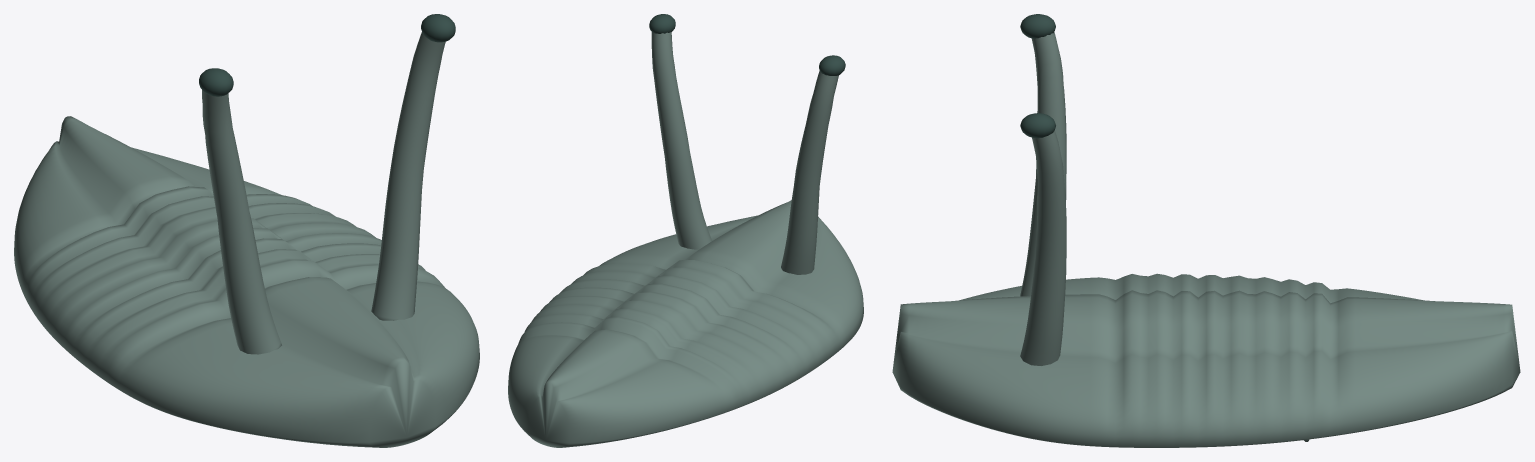
File: asaphus.glb
3 renders of one model, left to right at view 1: azimuth 30°, elevation 25°; view 2: azimuth 150°, elevation 25°; view 3: azimuth 270°, elevation 25°, orthographic. The views are drawn at different scales.
Parts seen in each view (by area): view 1: continuous-cephalon-thorax-pygidium, head-rooted-tapered-eye-towers, compact-terminal-eye-surfaces; view 2: continuous-cephalon-thorax-pygidium, head-rooted-tapered-eye-towers, compact-terminal-eye-surfaces; view 3: continuous-cephalon-thorax-pygidium, head-rooted-tapered-eye-towers, compact-terminal-eye-surfaces.
Part boxes in pixels (left/top/right/bottom): continuous-cephalon-thorax-pygidium: left=14, top=116, right=479, bottom=447; head-rooted-tapered-eye-towers: left=202, top=32, right=445, bottom=354; compact-terminal-eye-surfaces: left=199, top=14, right=455, bottom=96; continuous-cephalon-thorax-pygidium: left=508, top=200, right=863, bottom=447; head-rooted-tapered-eye-towers: left=651, top=32, right=838, bottom=274; compact-terminal-eye-surfaces: left=649, top=14, right=845, bottom=75; continuous-cephalon-thorax-pygidium: left=892, top=273, right=1520, bottom=447; head-rooted-tapered-eye-towers: left=1020, top=32, right=1066, bottom=365; compact-terminal-eye-surfaces: left=1020, top=14, right=1055, bottom=138.
Bounding box in the file's own units: 0.0425 × 0.0427 × 0.075.
